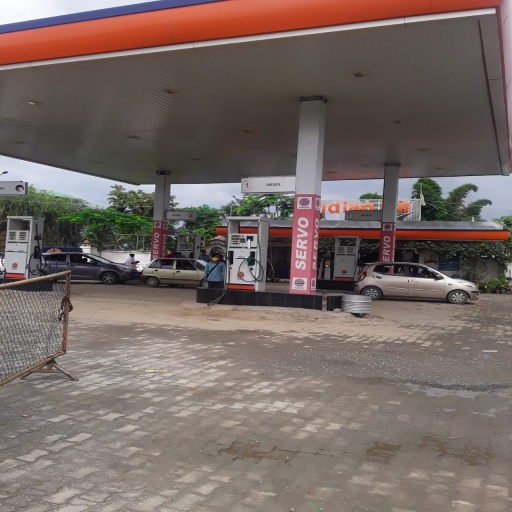roof: (1, 1, 506, 175)
